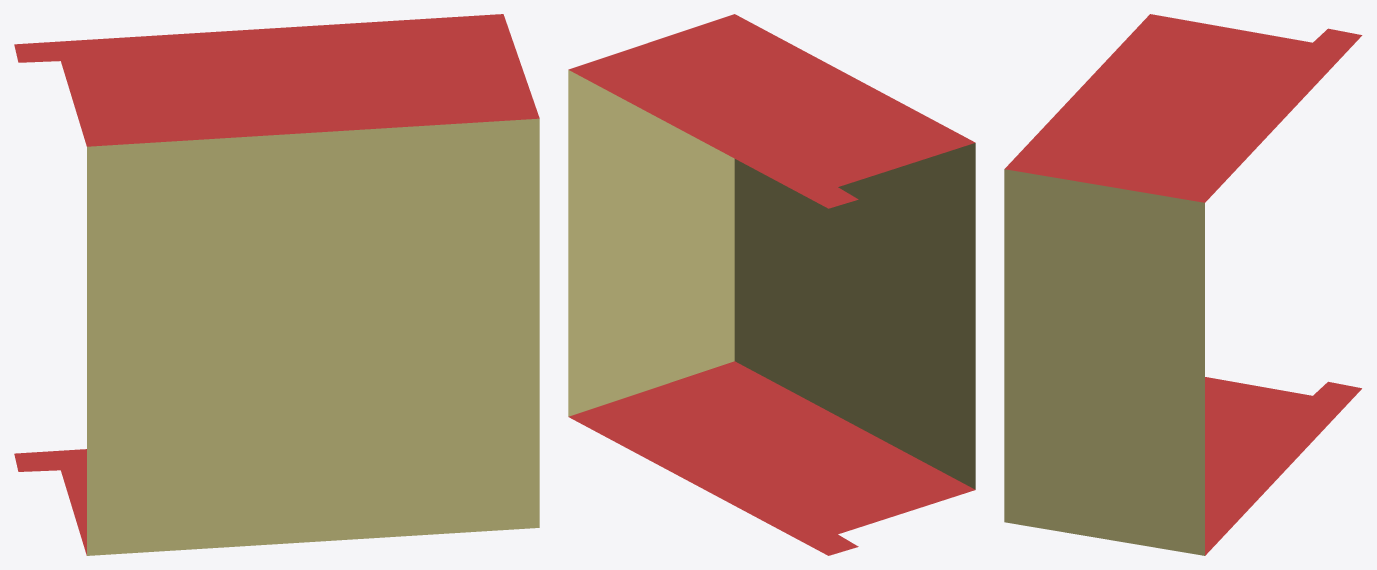
3 views of the same model, side by side, from view 1: azimuth 30°, elevation 25°; view 2: azimuth 150°, elevation 25°; view 3: azimuth 270°, elevation 25° (orthographic). The views are drawn at different scales.
Bounding box in the file's own units: 8.93 × 7.16 × 7.78.
